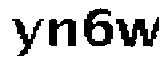6: (81, 7, 114, 50)
n: (46, 17, 77, 50)
w: (115, 15, 160, 51)
y: (7, 16, 46, 60)
